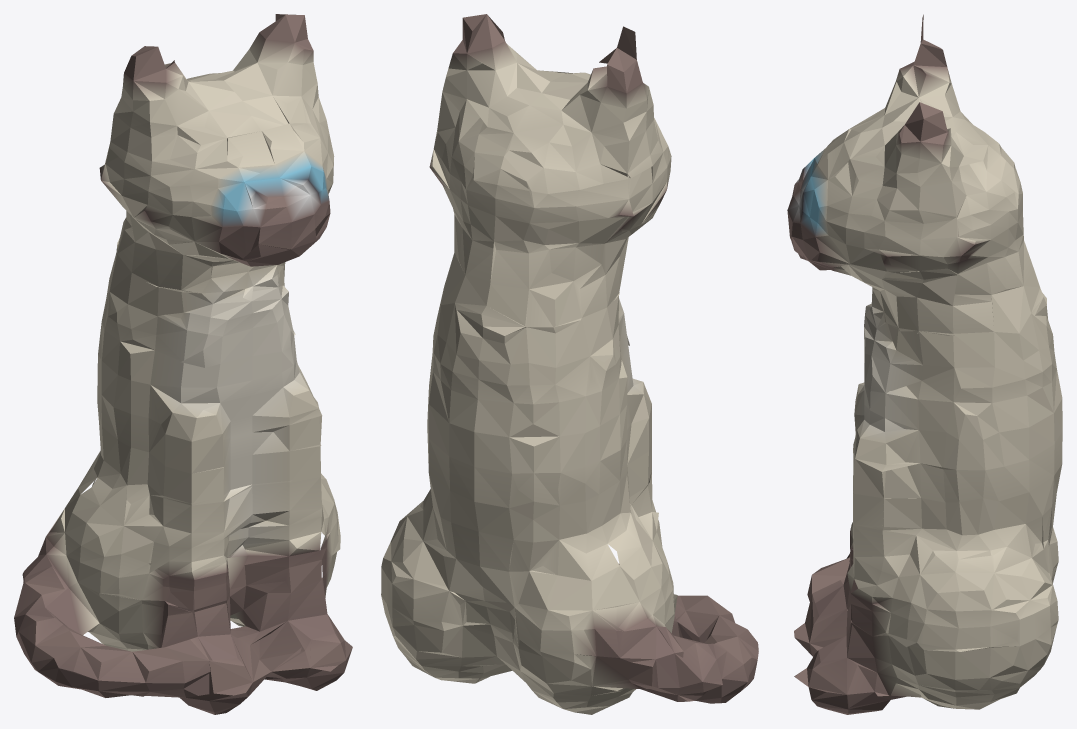
3 renders of one model, left to right at view 1: azimuth 30°, elevation 25°; view 2: azimuth 150°, elevation 25°; view 3: azimuth 270°, elevation 25°, orthographic. The views are drawn at different scales.
Parts seen in each view (by area): view 1: world; view 2: world; view 3: world.
Boxes of the visible parts, x1,y1,x2,y2 form: world: [14, 14, 352, 714]; world: [381, 14, 758, 714]; world: [787, 14, 1062, 714].
Size of the model in its own units: 1.78 by 3.55 by 1.39.
